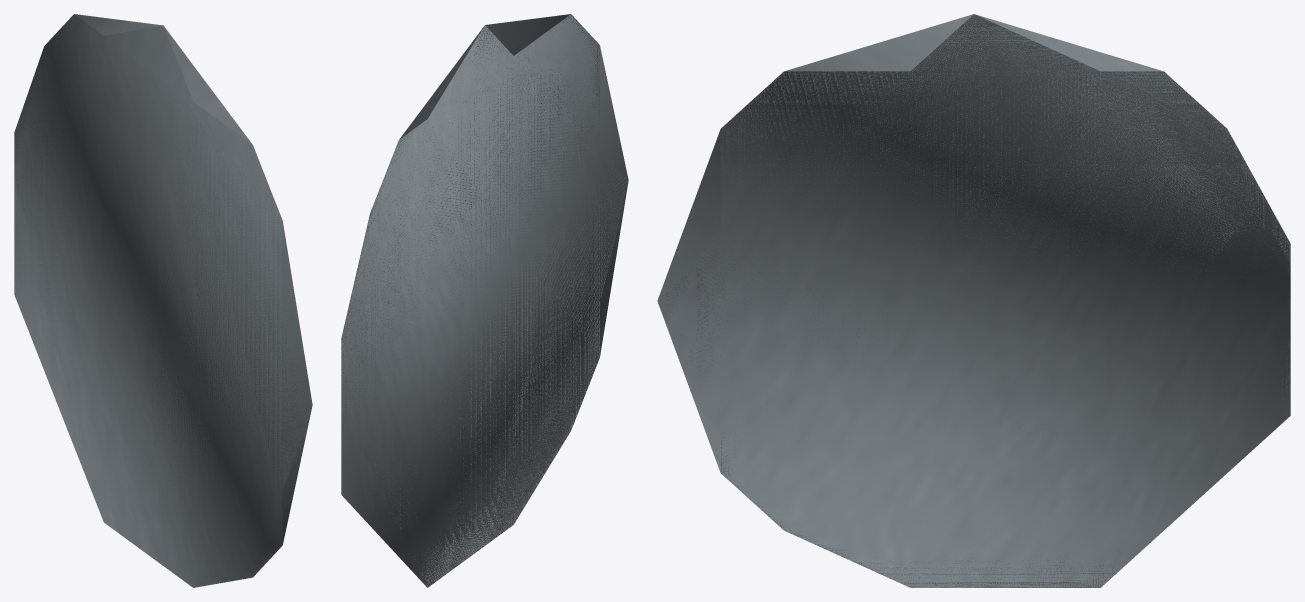
The picture shows the model from 3 angles, left to right: view 1: azimuth 30°, elevation 25°; view 2: azimuth 150°, elevation 25°; view 3: azimuth 270°, elevation 25°; orthographic projection. The views are drawn at different scales.
Size of the model in its own units: 0 by 0.8 by 0.8.
1 material, 1 textured.
